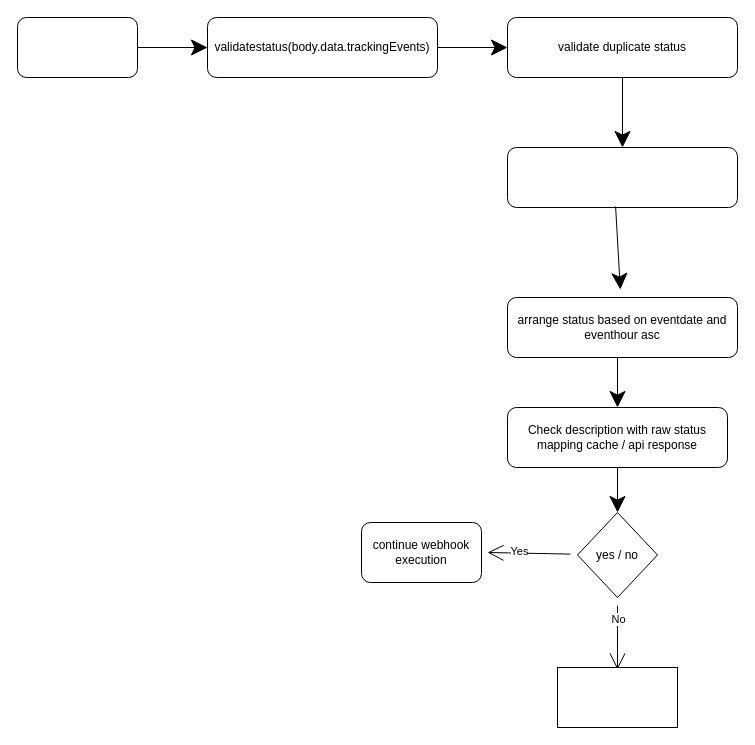
This 755x745 diagram has some shape labels left out. Here are the shapes that lost their labels. From the top down, the box of each, then its label:
(16, 16, 138, 78): webhook
(506, 146, 738, 208): validate null/empty/undefined statuses
(556, 666, 678, 728): show errors
